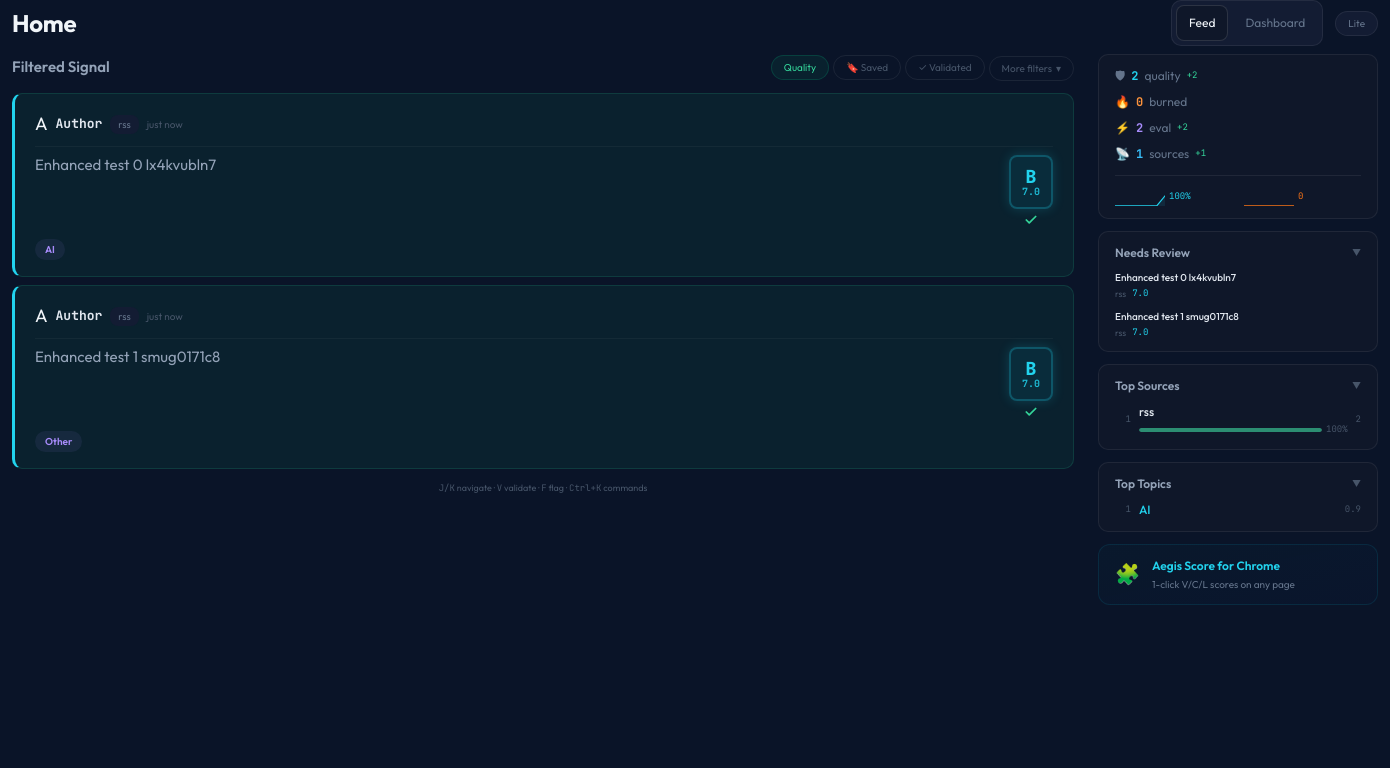
Sidebar — Topic filter chip in filter bar › clicking topic chip dismisses topic filter
The width and height of the screenshot is (1390, 768).
// Activate topic filter
Click the button "1 AI 0.9" at (1238,510), box [1115,500,1361,518]
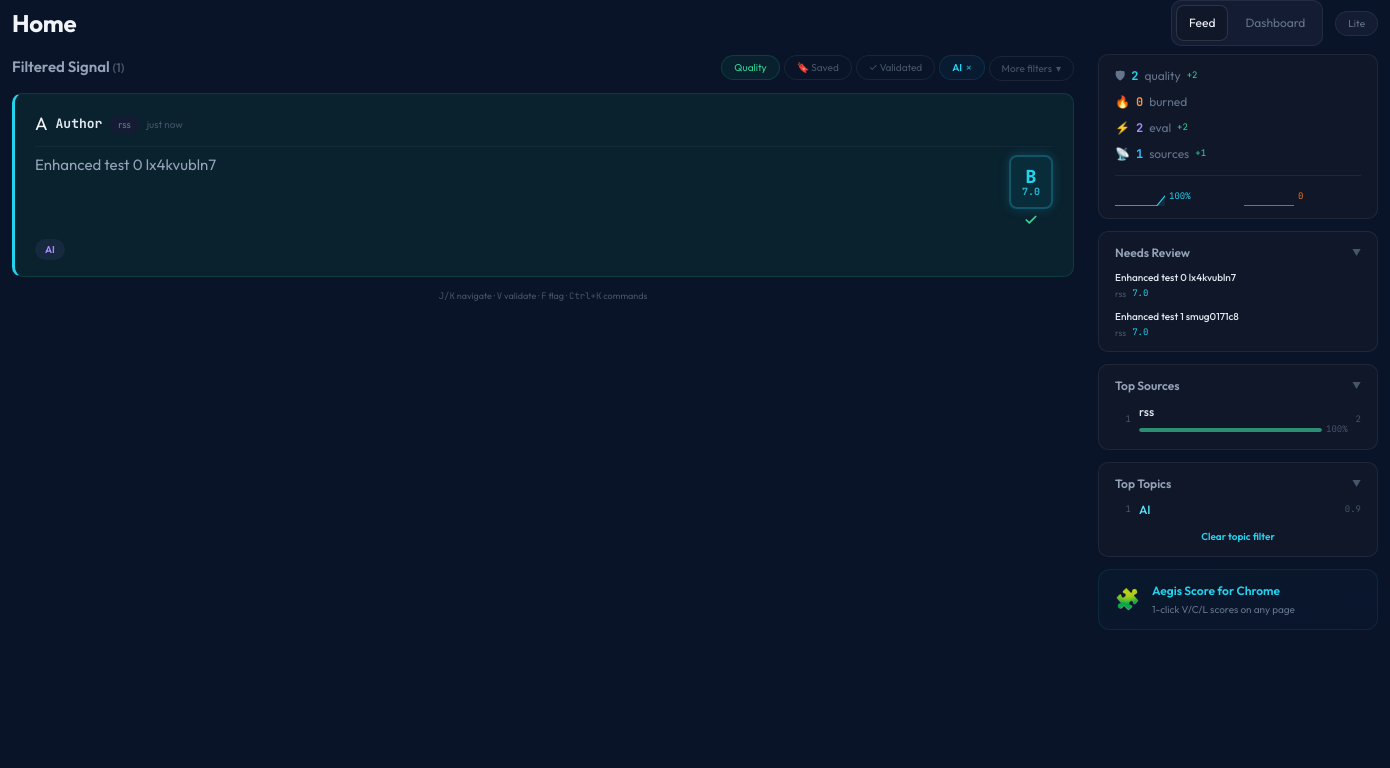
// Click chip to dismiss
Click the button with test id "aegis-filter-topic-active" at (962,68), box [939,55,985,80]
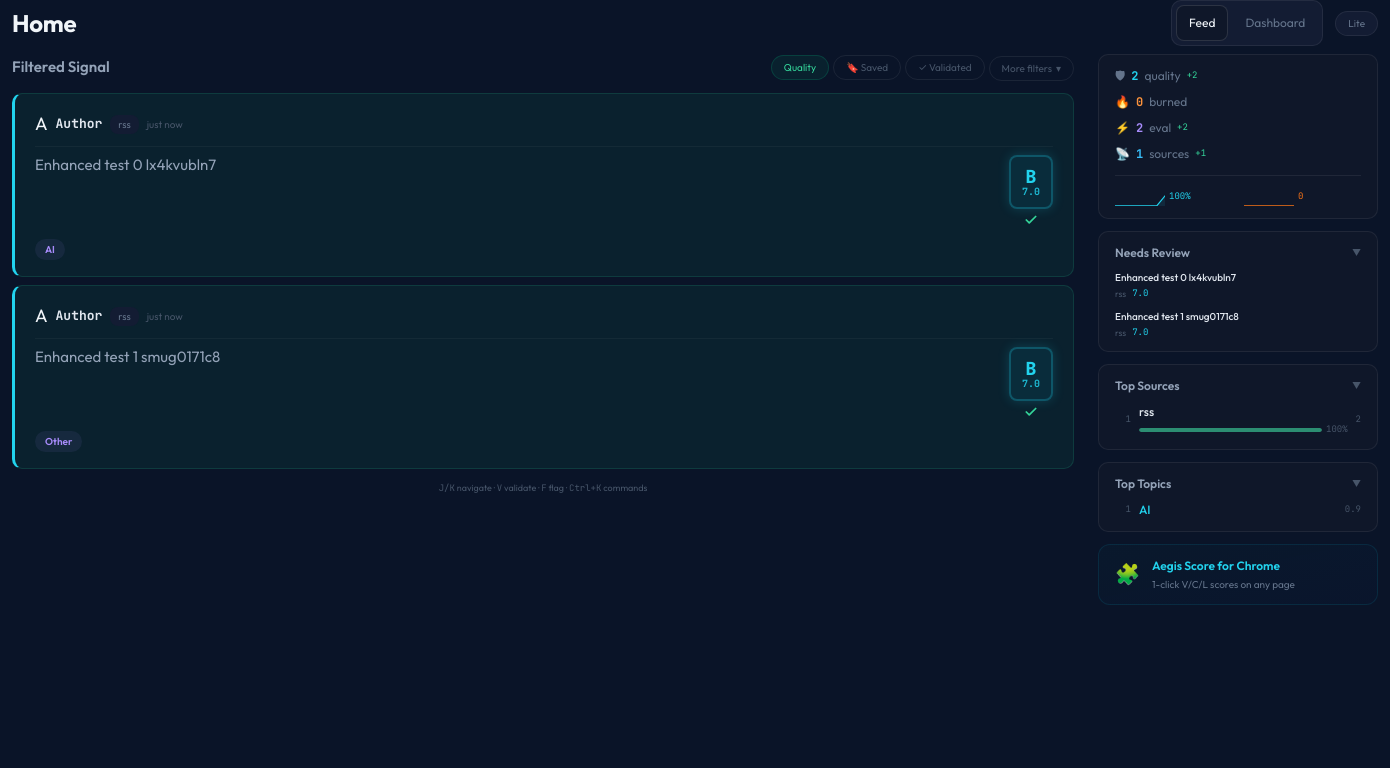
Expected: the button with test id "aegis-filter-topic-active" is gone
